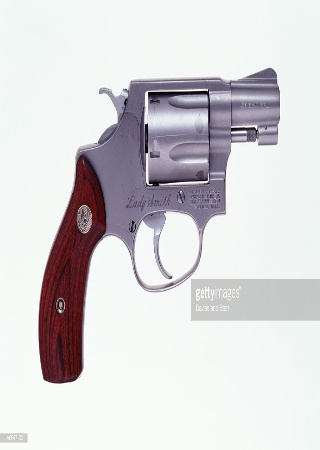handgun: (35, 64, 282, 384)
